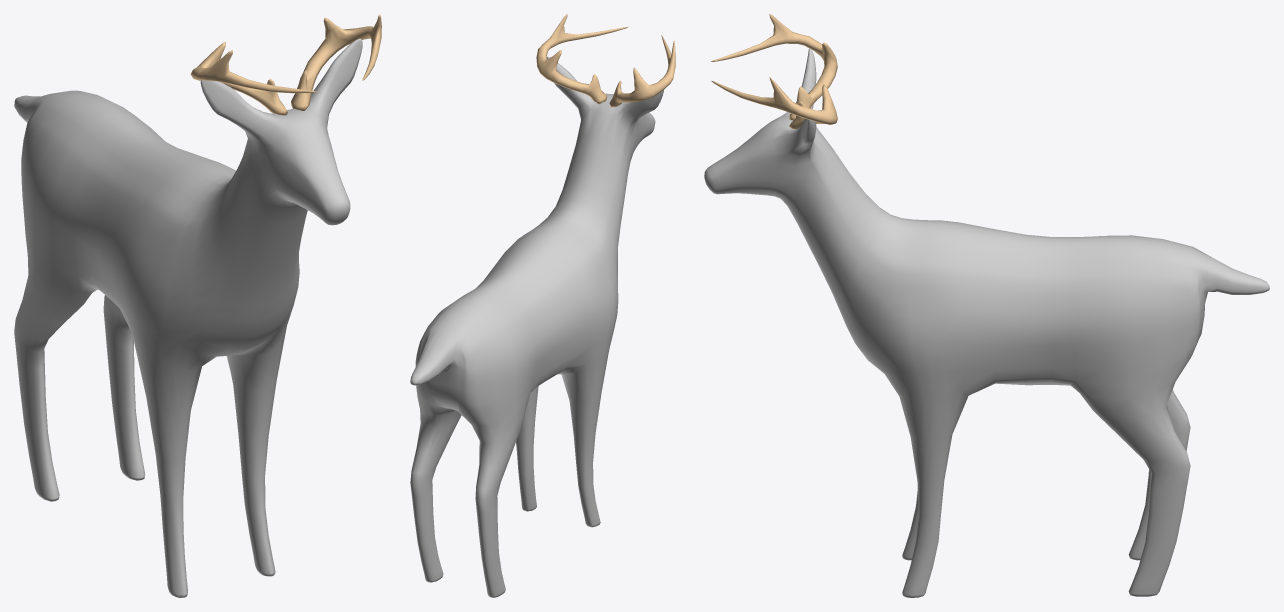
File: Venado.fbx
3 renders of one model, left to right at view 1: azimuth 30°, elevation 25°; view 2: azimuth 150°, elevation 25°; view 3: azimuth 270°, elevation 25°, orthographic. The views are drawn at different scales.
Parts seen in each view (by area): view 1: Cuerpo, Astas; view 2: Cuerpo, Astas; view 3: Cuerpo, Astas.
Boxes of the visible parts, x1,y1,x2,y2 form: Cuerpo: (14, 38, 362, 597); Astas: (190, 14, 381, 115); Cuerpo: (410, 56, 663, 597); Astas: (536, 14, 675, 107); Cuerpo: (704, 48, 1269, 597); Astas: (711, 14, 837, 129).
Size of the model in its own units: 9.62 by 30.83 by 29.67.
